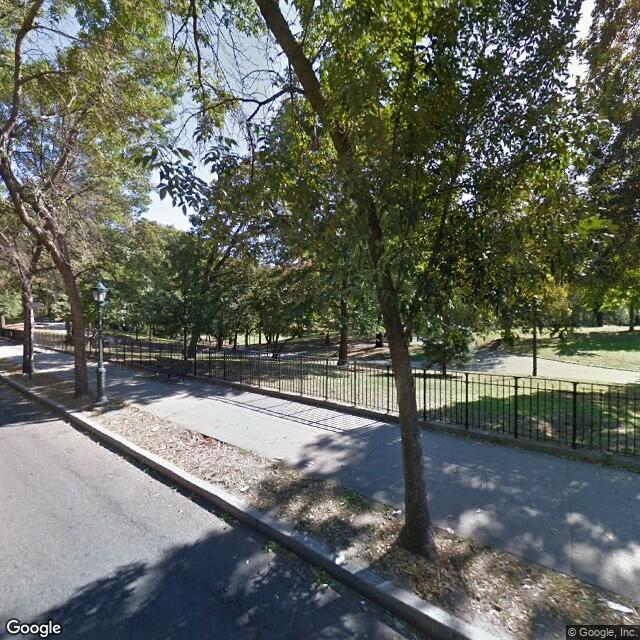litter: (602, 598, 632, 616), (442, 527, 457, 538), (316, 580, 329, 588), (388, 508, 402, 515), (356, 597, 367, 603), (242, 558, 253, 564), (474, 507, 484, 513), (265, 546, 272, 549)
